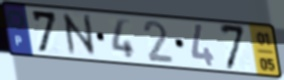2: (141, 19, 176, 64)
4: (109, 17, 138, 61), (189, 22, 216, 69)
7: (219, 22, 248, 72), (31, 9, 59, 54)
N: (59, 12, 100, 58)
